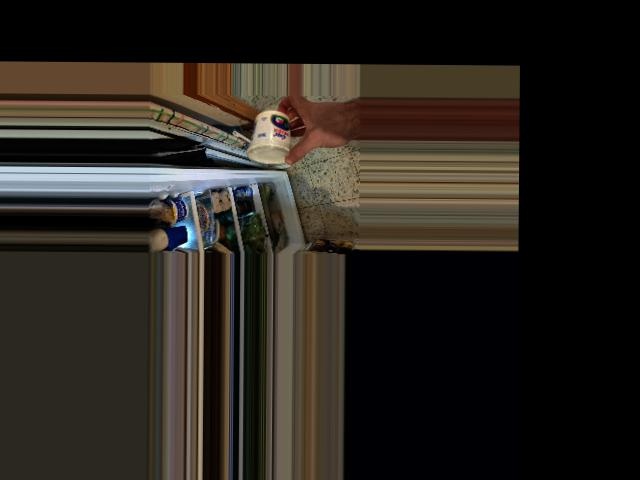cotage: (250, 109, 295, 166)
